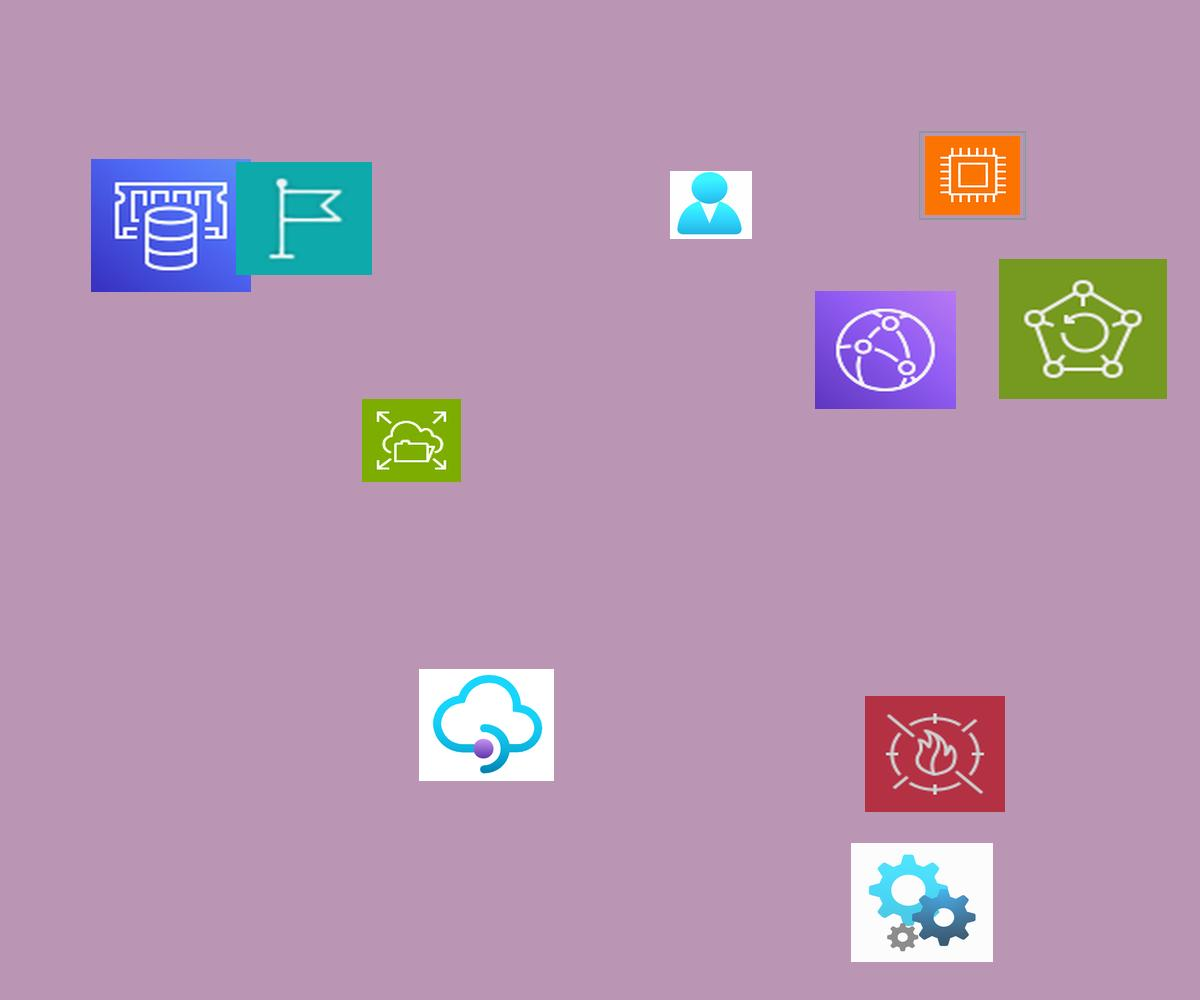AWS-Backup: (999, 259, 1167, 399)
AWS-Category_Compute: (919, 131, 1026, 220)
AWS-CloudFront: (815, 291, 956, 409)
AWS-EFS: (362, 399, 461, 482)
AWS-ElastiCache: (91, 159, 251, 292)
AWS-Region: (236, 162, 372, 275)
AWS-WAF: (865, 696, 1005, 812)
Azure_api: (851, 843, 993, 962)
Azure_api_gateway: (419, 669, 554, 781)
Azure_users: (670, 171, 752, 239)
